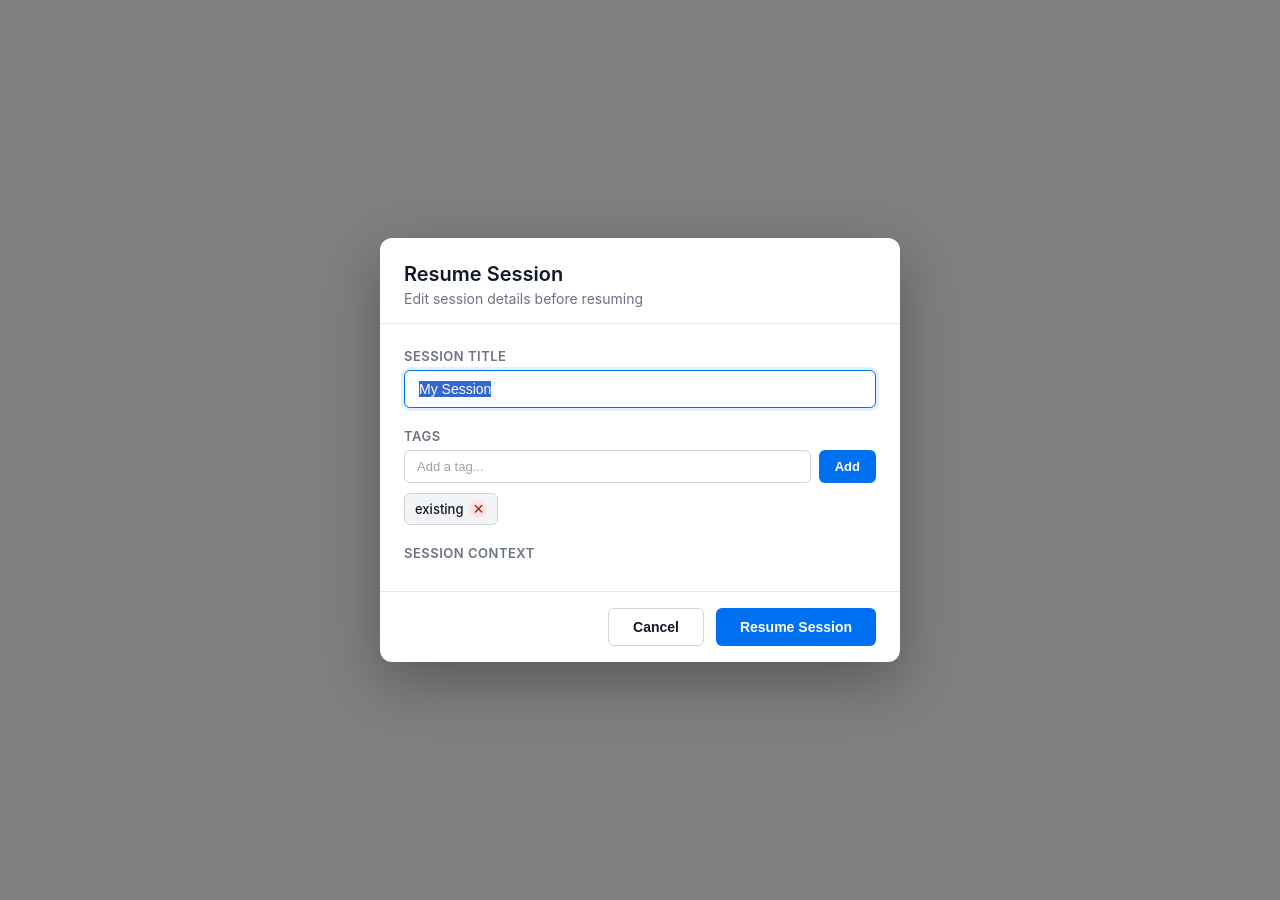
Test: ResumeSessionModal › tag management › shows error when adding a duplicate tag
The width and height of the screenshot is (1280, 900).
Type "existing" into the field with placeholder "Add a tag..." at (607, 466), box [404,450,811,483]
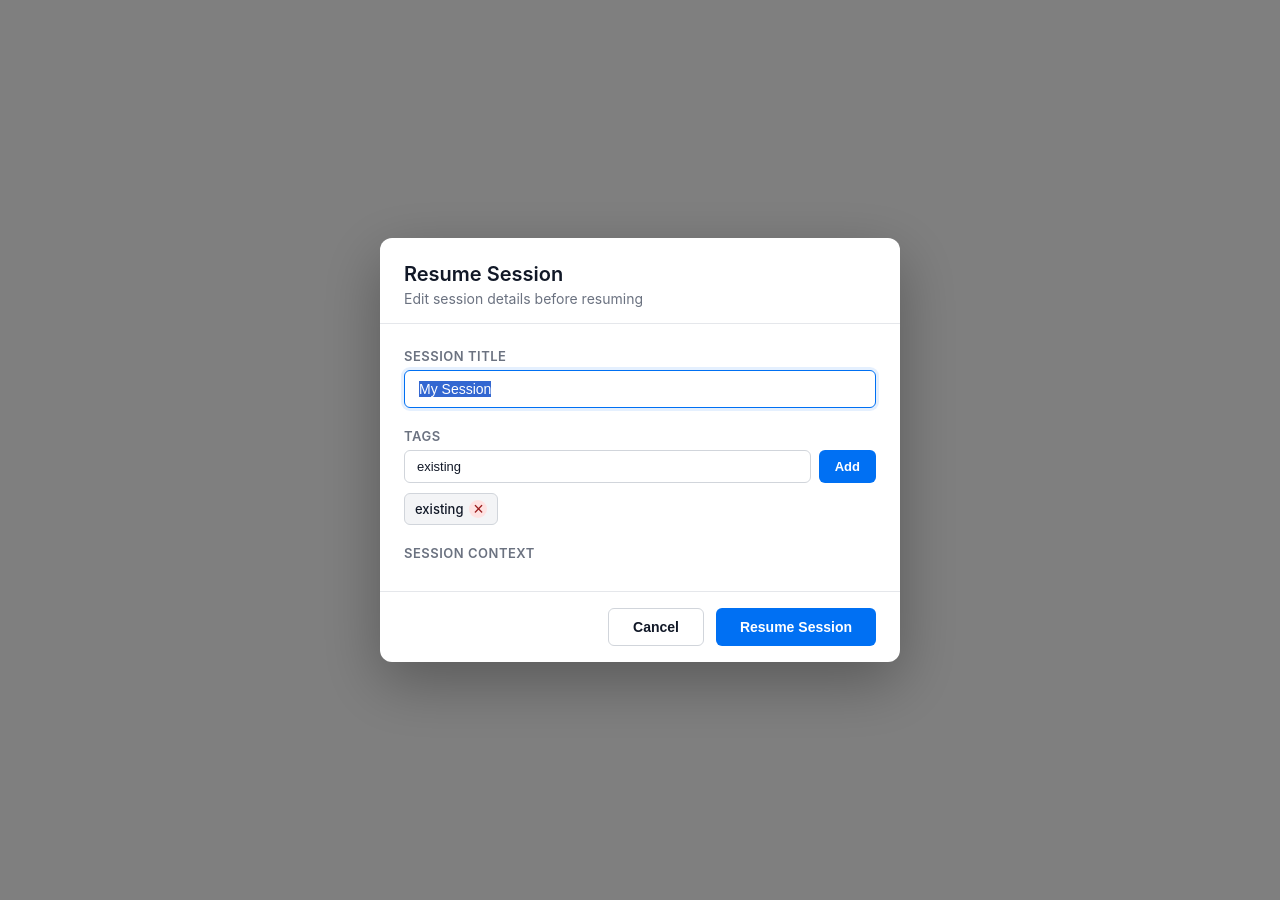
Click the button "Add" at (847, 466), box [819,450,876,483]
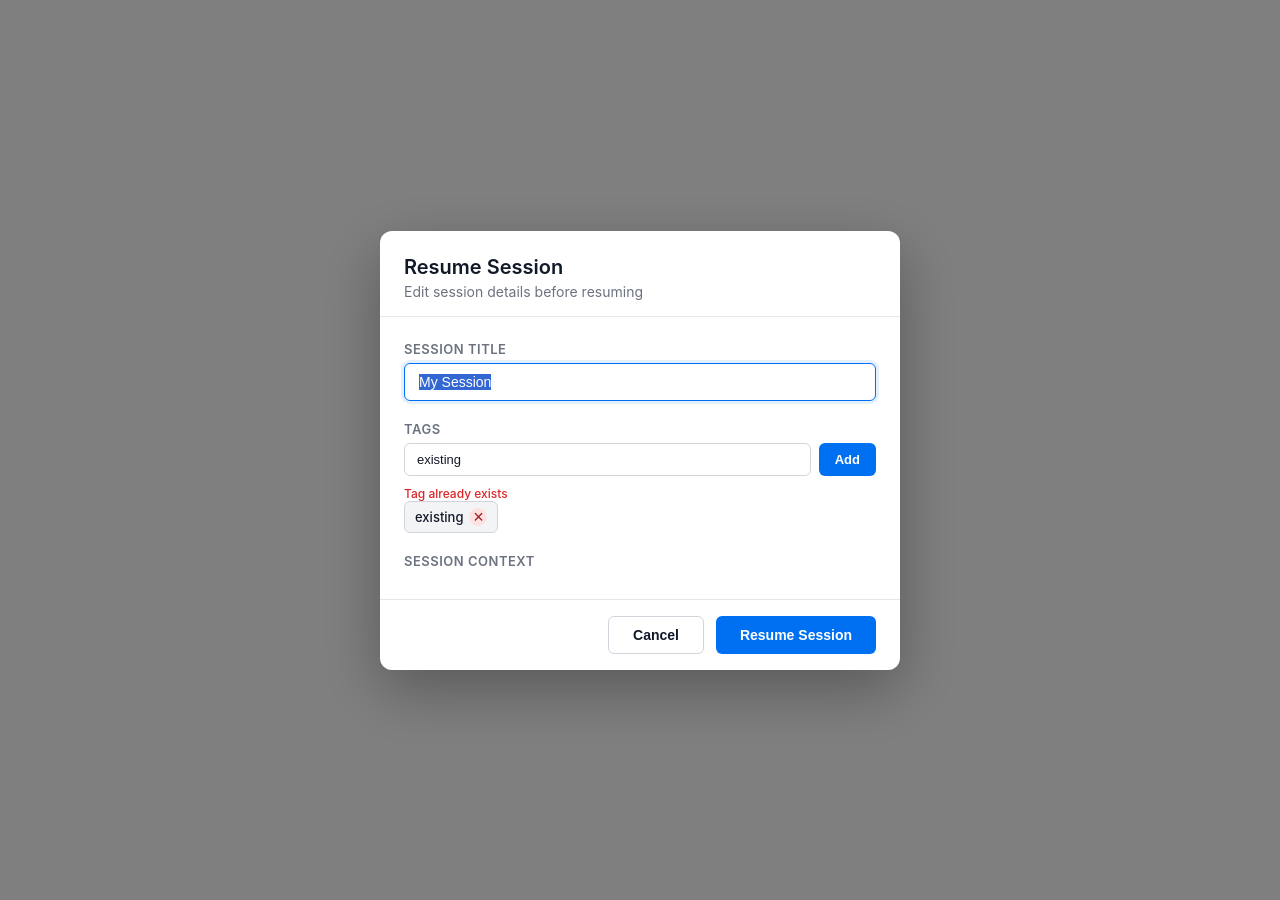
Check: the text "Tag already exists" is shown, box [404,486,508,500]
